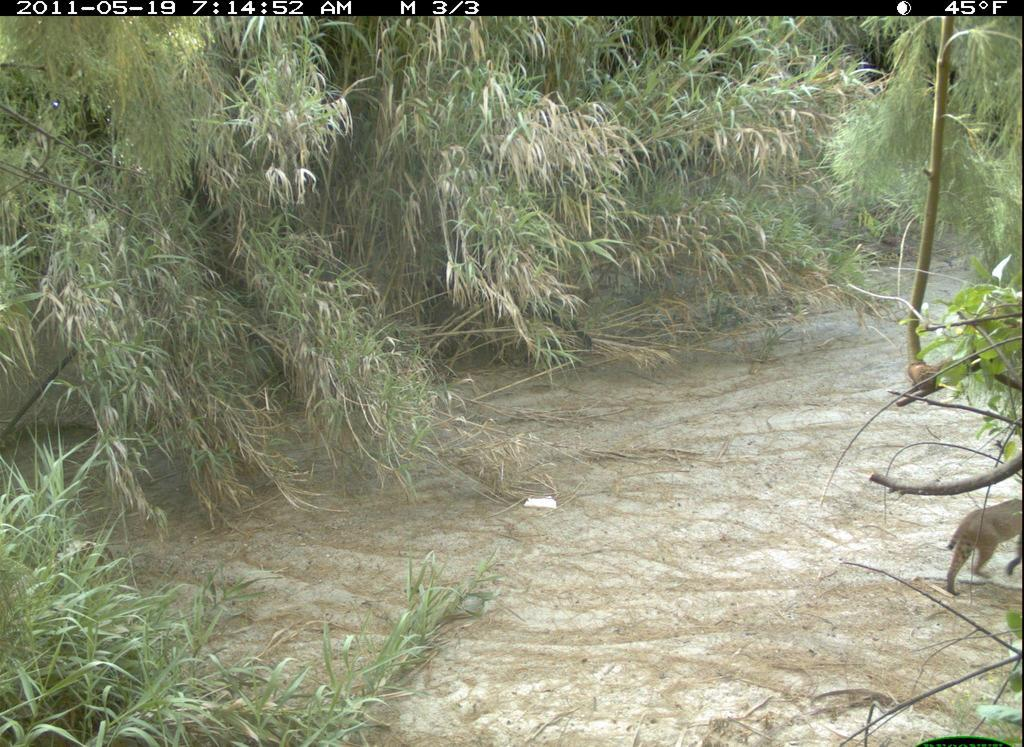bobcat: (939, 493, 1022, 605)
